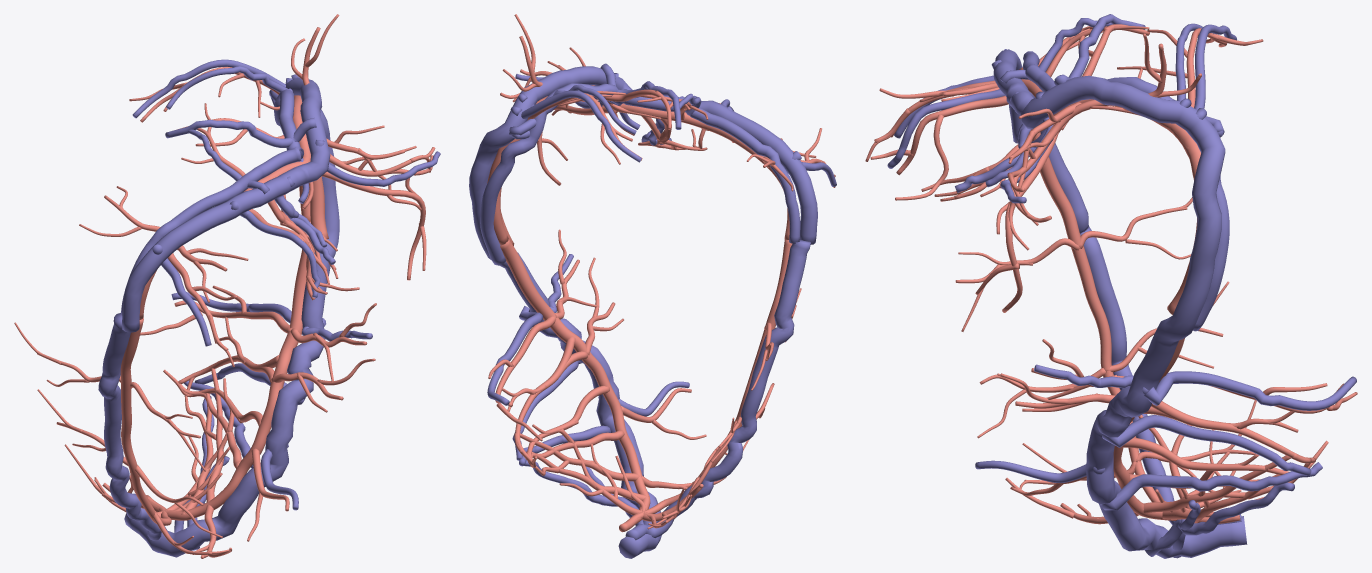
Rendered from vessels_2.glb.
3 views of the same model, side by side, from view 1: azimuth 30°, elevation 25°; view 2: azimuth 150°, elevation 25°; view 3: azimuth 270°, elevation 25° (orthographic). The views are drawn at different scales.
Parts seen in each view (by area): view 1: Renderer Node; view 2: Renderer Node; view 3: Renderer Node.
Boxes of the visible parts, <box> form: Renderer Node: <box>14,14,440,558</box>; Renderer Node: <box>469,14,836,558</box>; Renderer Node: <box>865,14,1357,558</box>.
Bounding box in the file's own units: 89.38 × 124 × 90.18.
